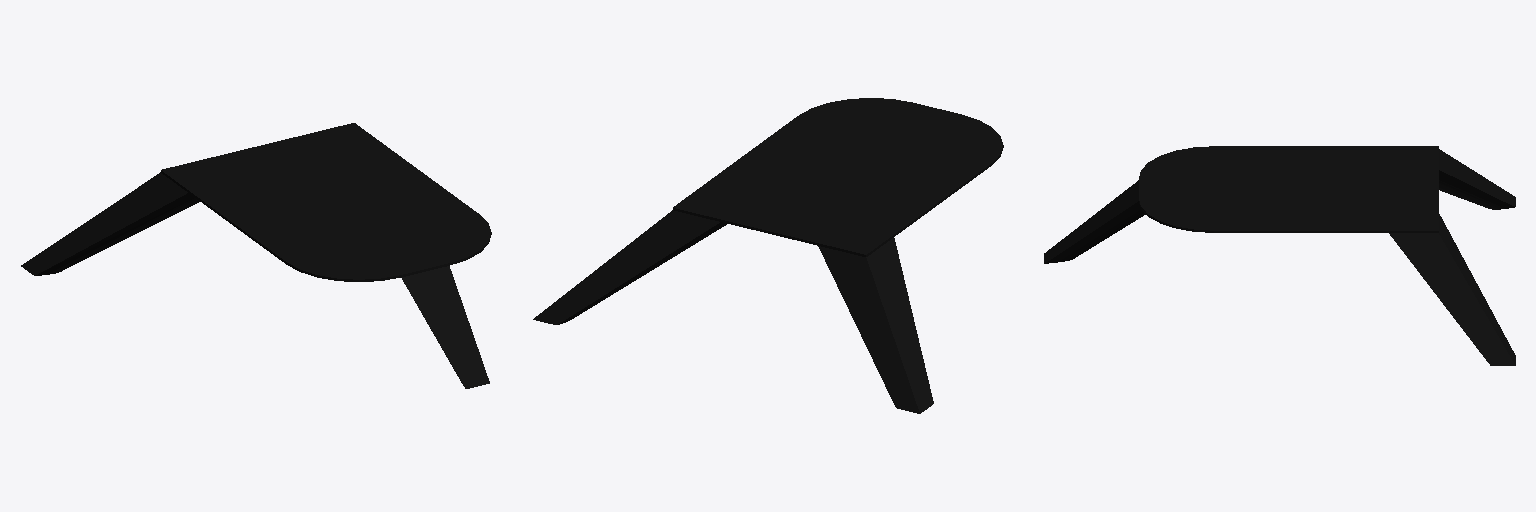
robot.urdf — vtol_foot:
<?xml version="1.0" encoding="utf-8"?>
<!-- This URDF was automatically created by SolidWorks to URDF Exporter! Originally created by [author] ([email redacted]) 
     Commit Version: 1.6.0-1-g15f4949  Build Version: 1.6.7594.29634
     For more information, please see http://wiki.ros.org/sw_urdf_exporter -->
<robot
  name="vtol_foot">
  <link
    name="base_link">
    <inertial>
      <origin
        xyz="0.159817386673013 -4.70725866282038E-06 -0.056848091196648"
        rpy="0 0 0" />
      <mass
        value="4.62509439810511" />
      <inertia
        ixx="0.0851080694793081"
        ixy="-0.0776136304362421"
        ixz="0.018045983727146"
        iyy="0.246988791389169"
        iyz="0.0111390900038102"
        izz="0.303762648027791" />
    </inertial>
    <visual>
      <origin
        xyz="0 0 0"
        rpy="0 0 0" />
      <geometry>
        <mesh
          filename="package://vtol_foot/meshes/base_link.STL" />
      </geometry>
      <material
        name="">
        <color
          rgba="0.101960784313725 0.101960784313725 0.101960784313725 1" />
      </material>
    </visual>
    <collision>
      <origin
        xyz="0 0 0"
        rpy="0 0 0" />
      <geometry>
        <mesh
          filename="package://vtol_foot/meshes/base_link.STL" />
      </geometry>
    </collision>
  </link>
</robot>

--- What the picture shows (computed from the rendered views, not written in the file) ---
3 views of the same robot in one strip: view 1: azimuth 30°, elevation 25°; view 2: azimuth 150°, elevation 25°; view 3: azimuth 270°, elevation 25° (orthographic).
Model vtol_foot with 1 links and 0 joints (none), rooted at base_link, posed every joint at zero.
Links seen in each view (by area): view 1: base_link; view 2: base_link; view 3: base_link.
Link boxes in pixels (x1,y1,x2,y2): base_link: (21, 123, 491, 388); base_link: (533, 98, 1003, 413); base_link: (1044, 146, 1515, 365).
Size in the robot's own frame: 0.8 by 0.9429 by 0.205 metres.
1 mesh visuals loaded from 1 distinct referenced files (1 binary STL).